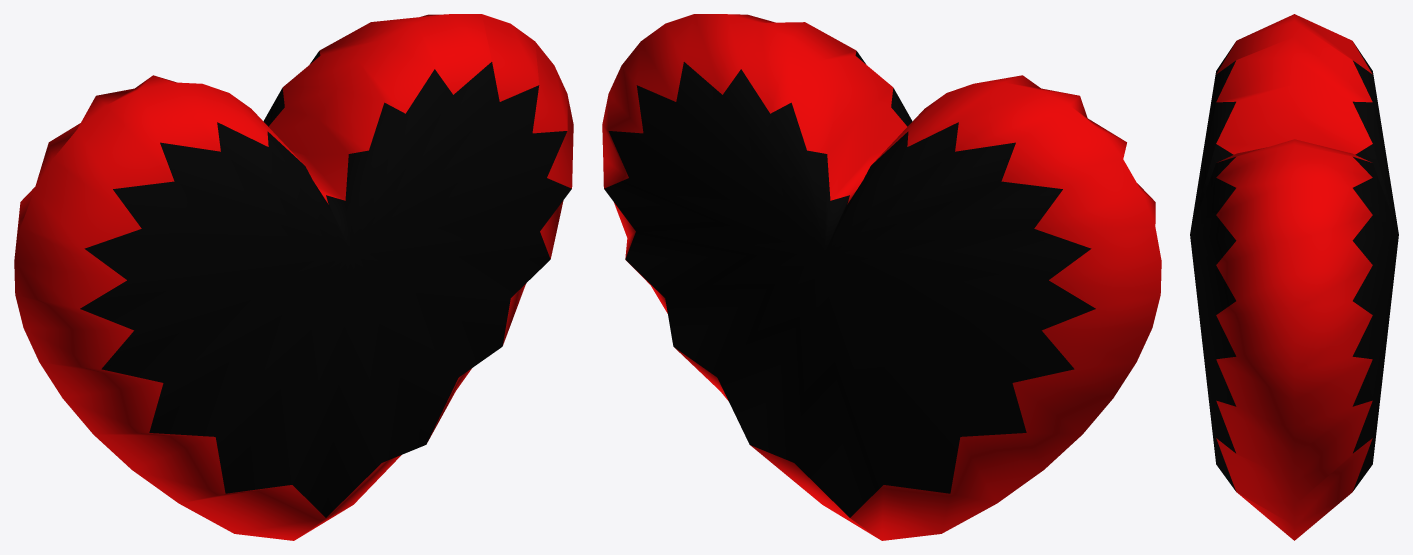
Rendered from koro.fbx.
The picture shows the model from 3 angles, left to right: view 1: azimuth 30°, elevation 25°; view 2: azimuth 150°, elevation 25°; view 3: azimuth 270°, elevation 25°; orthographic projection. The views are drawn at different scales.
Parts seen in each view (by area): view 1: polySurface3; view 2: polySurface3; view 3: polySurface3.
Part boxes in pixels (x1,y1,x2,y2): polySurface3: (14, 14, 573, 540); polySurface3: (602, 14, 1161, 540); polySurface3: (1190, 14, 1398, 540).
Bounding box in the file's own units: 11.23 × 9.38 × 4.
